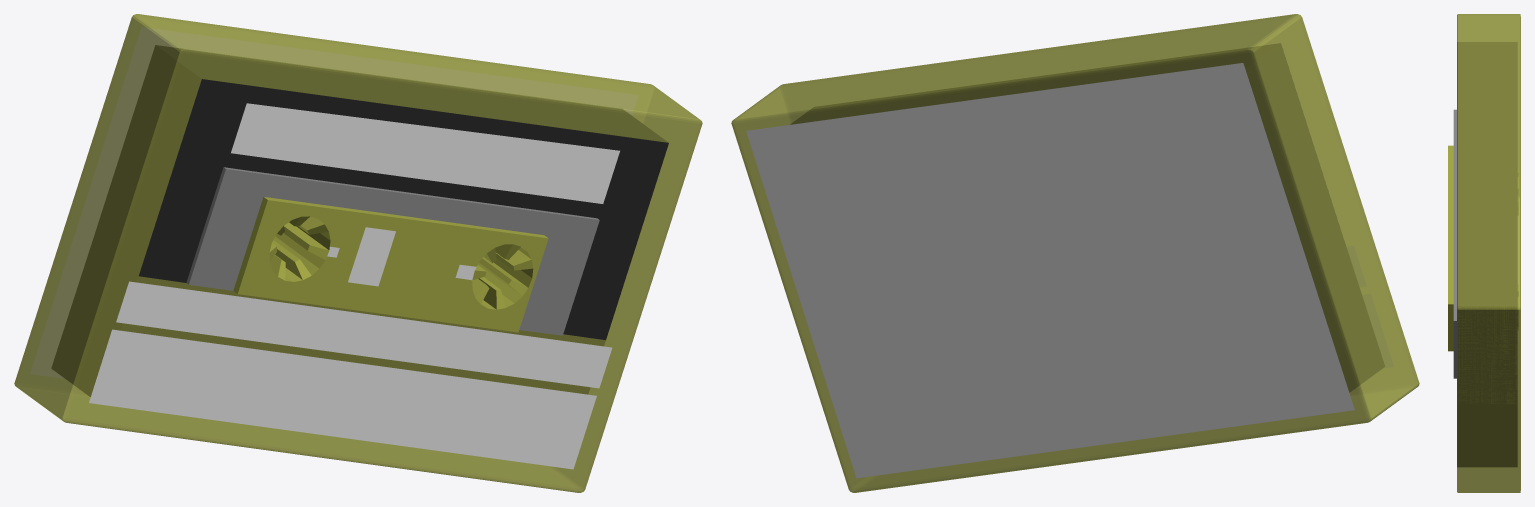
Rendered from Cassette_Yellow.fbx.
3 renders of one model, left to right at view 1: azimuth 30°, elevation 25°; view 2: azimuth 150°, elevation 25°; view 3: azimuth 270°, elevation 25°, orthographic. The views are drawn at different scales.
Visible parts, largest first — view 1: Cube; view 2: Cube; view 3: Cube.
Part boxes in pixels (box(x1,y1,x2,y2)): Cube: box(14, 14, 702, 492); Cube: box(731, 14, 1419, 492); Cube: box(1448, 14, 1520, 492).
Bounding box in the file's own units: 184 × 148 × 27.78.
